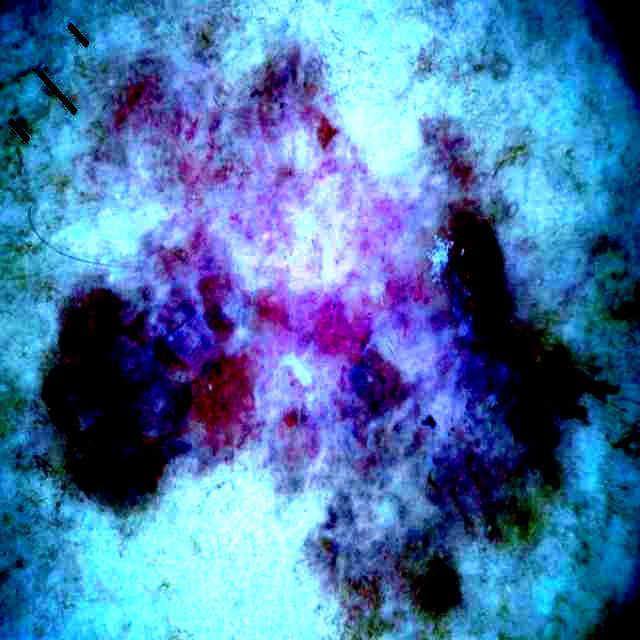AKIEC: (46, 84, 597, 636)
